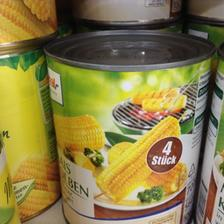Mais: (40, 28, 216, 222)
